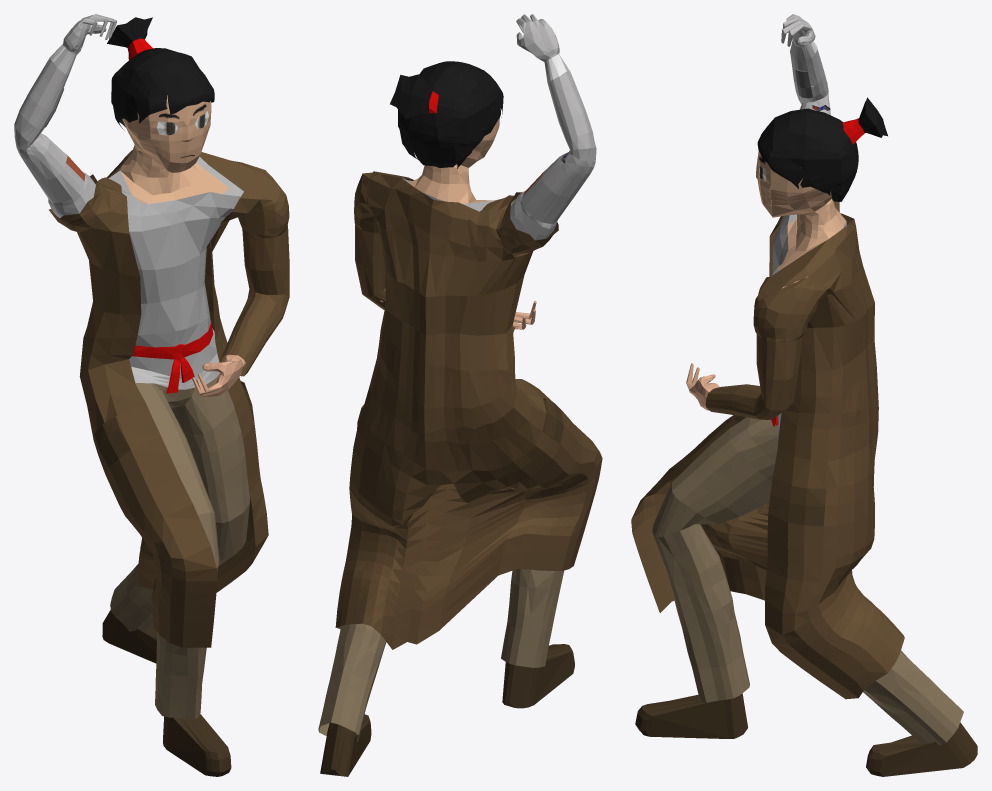
File: Special_Attack_000012.obj
3 renders of one model, left to right at view 1: azimuth 30°, elevation 25°; view 2: azimuth 150°, elevation 25°; view 3: azimuth 270°, elevation 25°, orthographic. The views are drawn at different scales.
Parts seen in each view (by area): view 1: Hair_Cube.004; view 2: Hair_Cube.004; view 3: Hair_Cube.004.
Boxes of the visible parts, left/top/right/bottom form: Hair_Cube.004: left=14, top=14, right=289, bottom=776; Hair_Cube.004: left=318, top=14, right=602, bottom=776; Hair_Cube.004: left=631, top=14, right=977, bottom=776.
Bounding box in the file's own units: 1.42 × 3.85 × 1.75.
